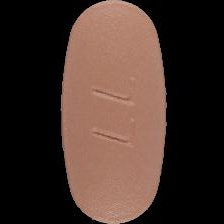0093-7473: (0, 0, 224, 224)
